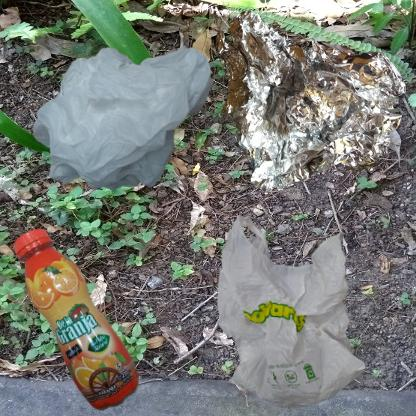aluminio: (213, 10, 406, 192)
bolsa: (10, 10, 281, 252), (213, 213, 372, 412)
botella: (10, 213, 164, 416)
